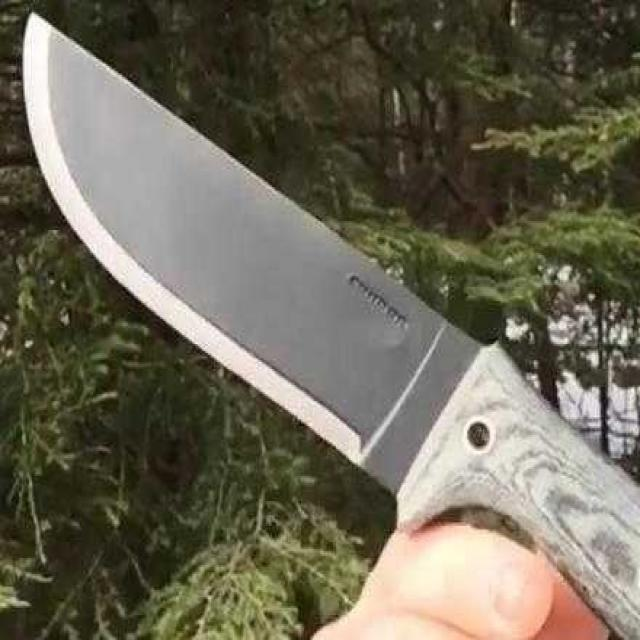knife: (22, 9, 639, 640)
